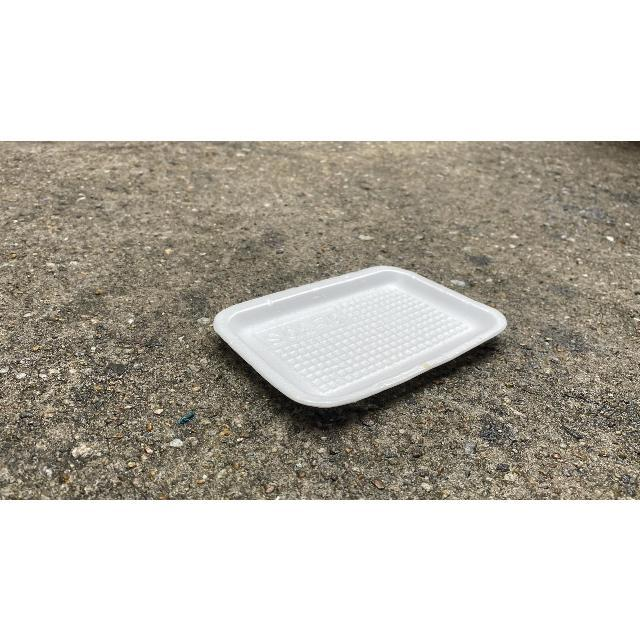Plastico descartable: (212, 266, 508, 410)
